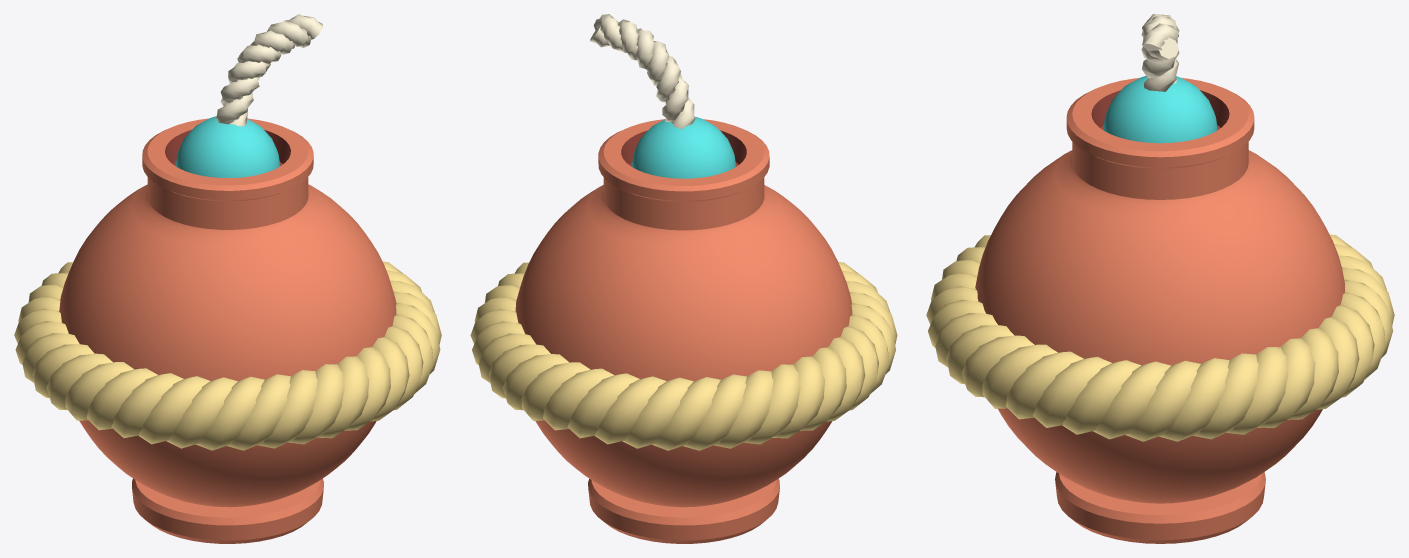
Rendered from weapon_bomb.glb.
3 views of the same model, side by side, from view 1: azimuth 30°, elevation 25°; view 2: azimuth 150°, elevation 25°; view 3: azimuth 270°, elevation 25° (orthographic). The views are drawn at different scales.
Parts seen in each view (by area): view 1: Bomb_Body, Bomb_Rope, Bomb_Gem, Bomb_Fuse; view 2: Bomb_Body, Bomb_Rope, Bomb_Gem, Bomb_Fuse; view 3: Bomb_Body, Bomb_Rope, Bomb_Gem, Bomb_Fuse.
Part boxes in pixels (bbox=[...]): Bomb_Body: bbox=[59, 118, 396, 543]; Bomb_Rope: bbox=[14, 261, 441, 450]; Bomb_Gem: bbox=[175, 116, 280, 177]; Bomb_Fuse: bbox=[215, 14, 322, 126]; Bomb_Body: bbox=[515, 119, 852, 543]; Bomb_Rope: bbox=[470, 262, 897, 450]; Bomb_Gem: bbox=[631, 117, 736, 178]; Bomb_Fuse: bbox=[590, 14, 695, 129]; Bomb_Body: bbox=[975, 78, 1344, 543]; Bomb_Rope: bbox=[926, 234, 1394, 441]; Bomb_Gem: bbox=[1103, 76, 1217, 143]; Bomb_Fuse: bbox=[1141, 14, 1179, 91].
Size of the model in its own units: 0.244 by 0.2982 by 0.2442.
